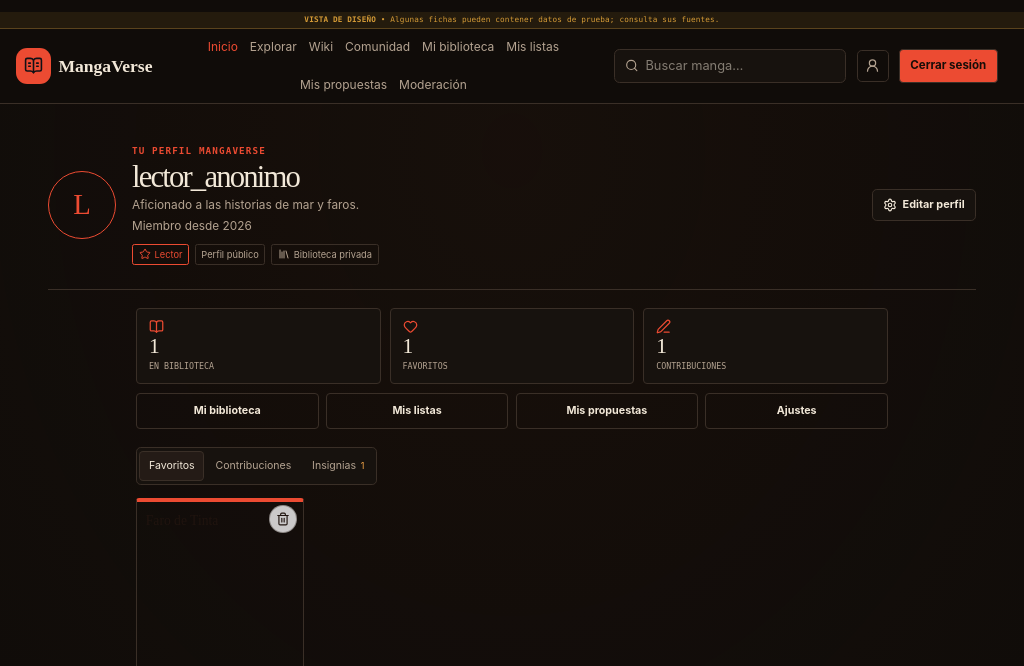
Test: ProfileSettingsPage › removes a favorite from the profile
Click the button named "Quitar Faro de Tinta de favoritos": (283, 519) [269,505,297,533]
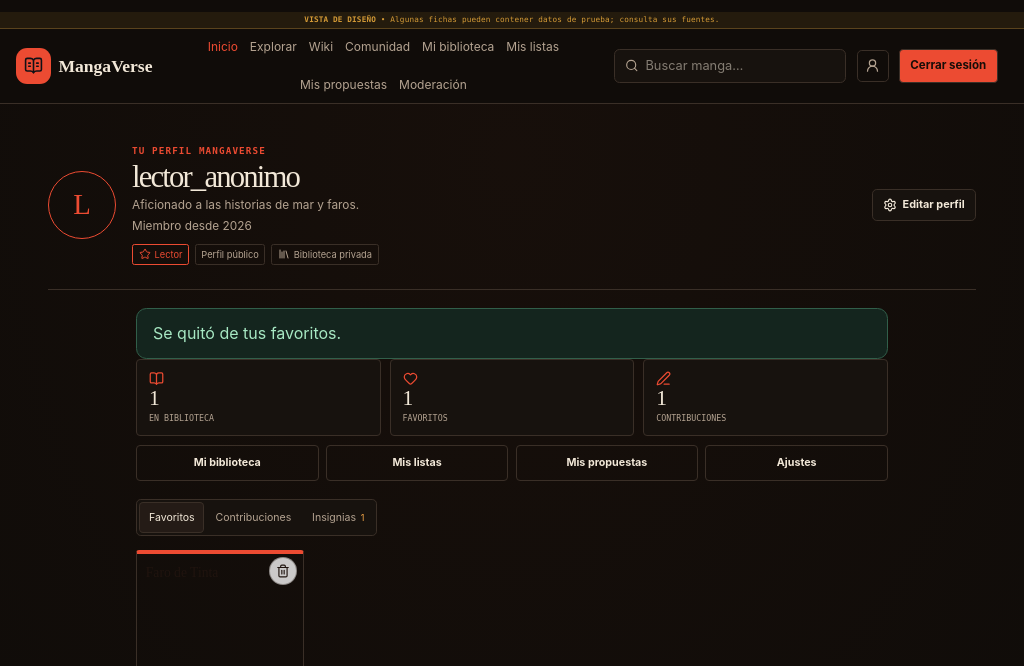
Expected: the message reads "Se quitó de tus favoritos.", [153,323,341,343]
